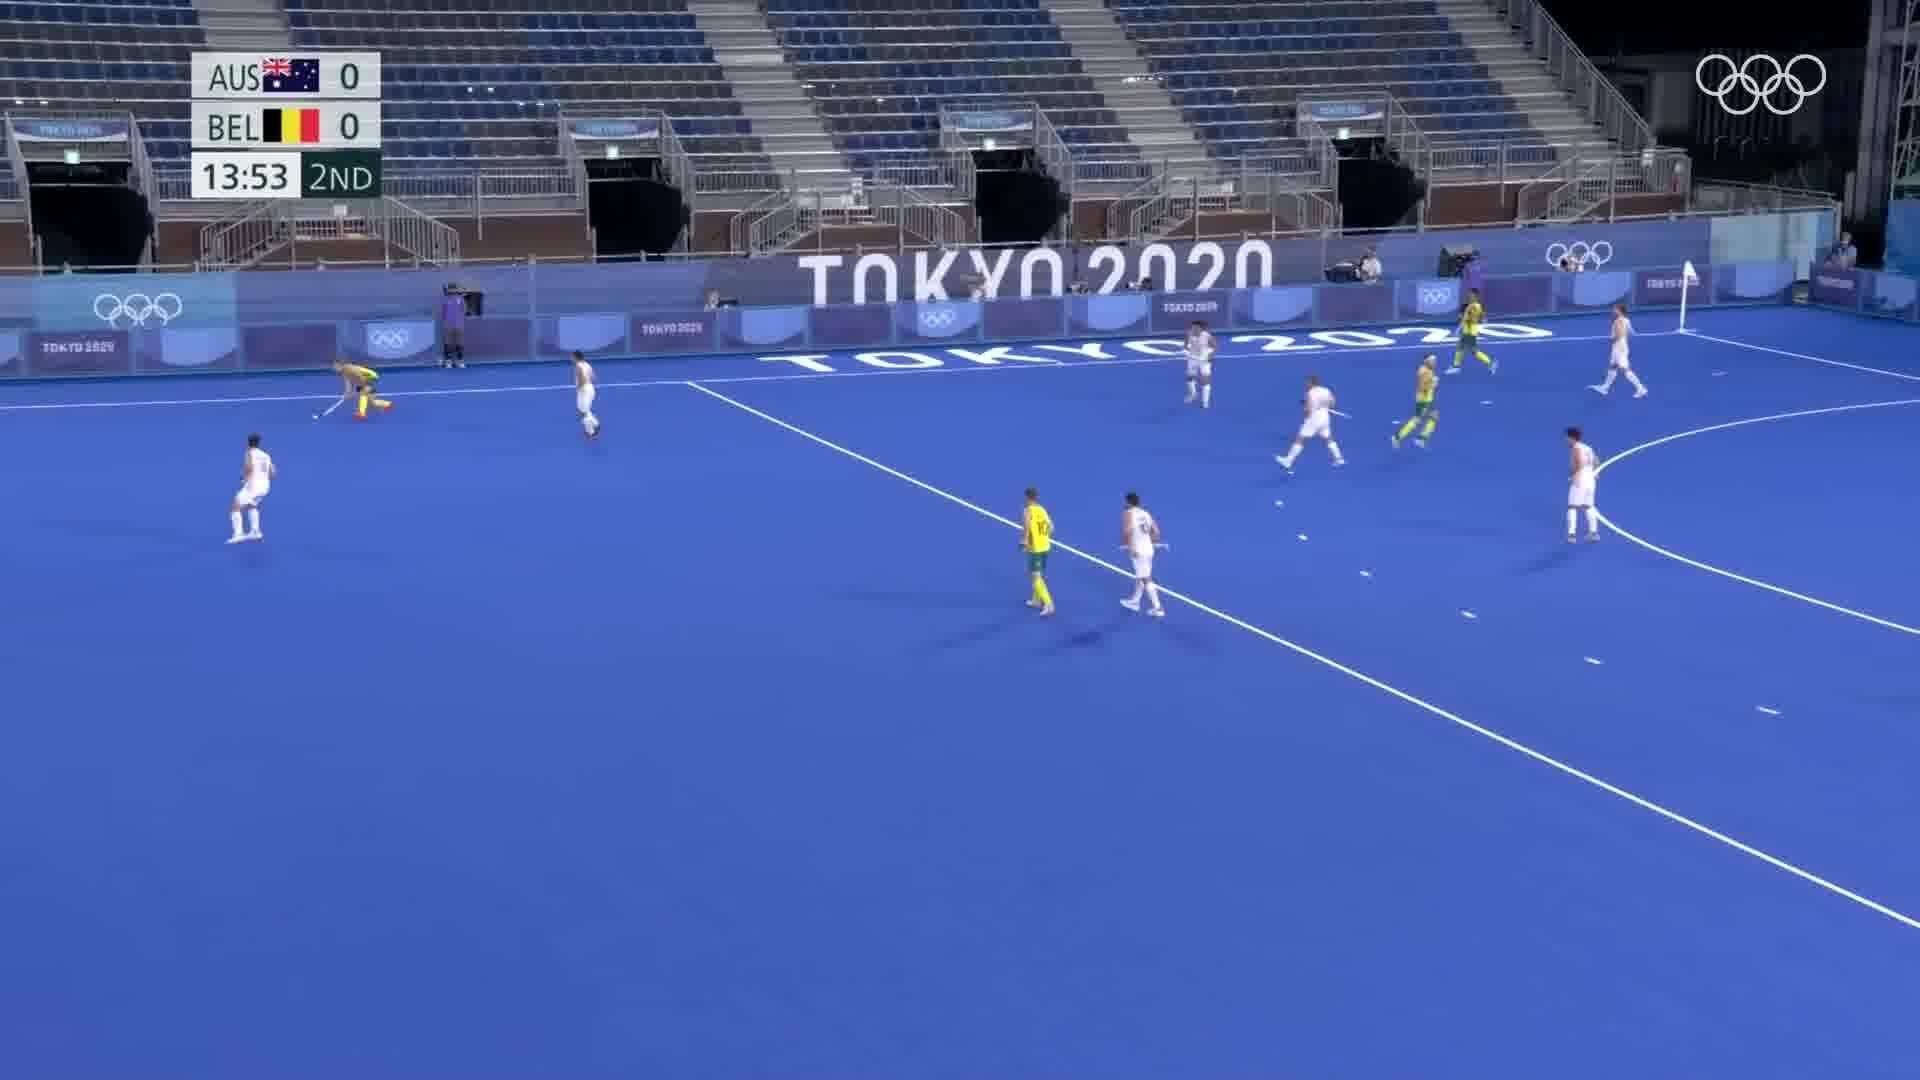ball: (305, 409, 322, 425)
